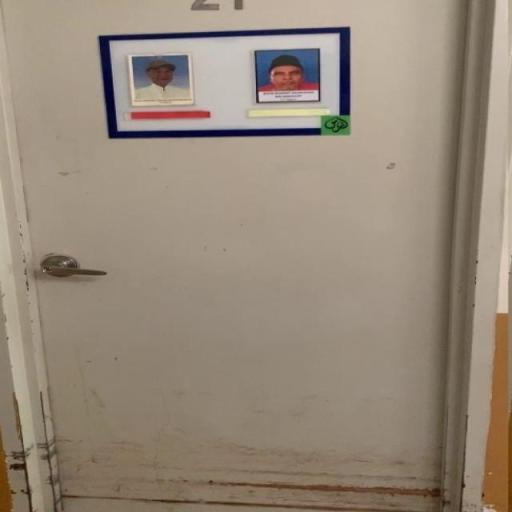door: (2, 0, 476, 511)
